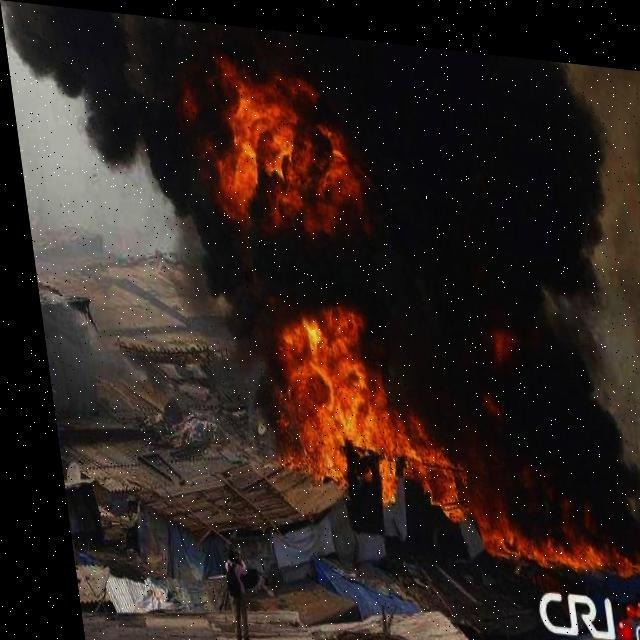Fire: (185, 53, 639, 602)
